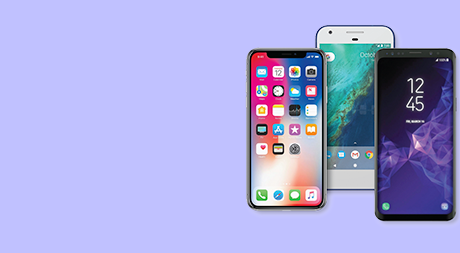phone: (370, 48, 458, 225), (241, 46, 334, 213)
